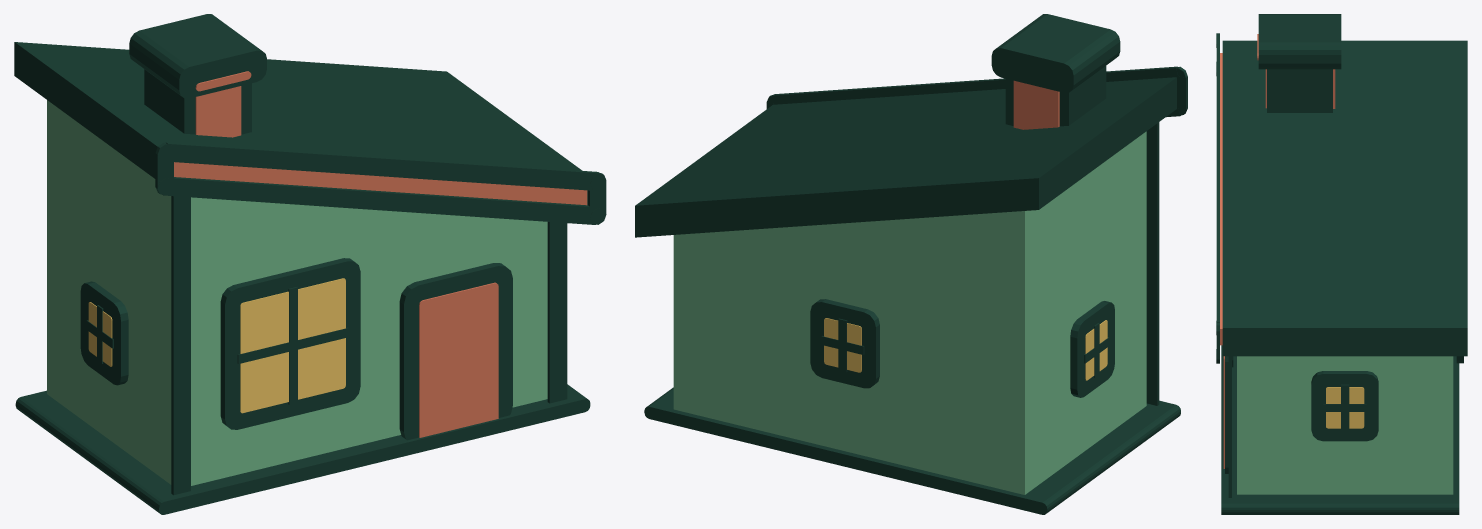
The model's file is variant-09.glb.
3 renders of one model, left to right at view 1: azimuth 30°, elevation 25°; view 2: azimuth 150°, elevation 25°; view 3: azimuth 270°, elevation 25°, orthographic. The views are drawn at different scales.
Visible parts, largest first — view 1: Lean-to; view 2: Lean-to; view 3: Lean-to.
Part boxes in pixels (x1=…): Lean-to: x1=14, y1=14, x2=606, y2=514; Lean-to: x1=635, y1=14, x2=1187, y2=514; Lean-to: x1=1216, y1=14, x2=1467, y2=514.
Bounding box in the file's own units: 1.02 × 0.9143 × 0.5974.
